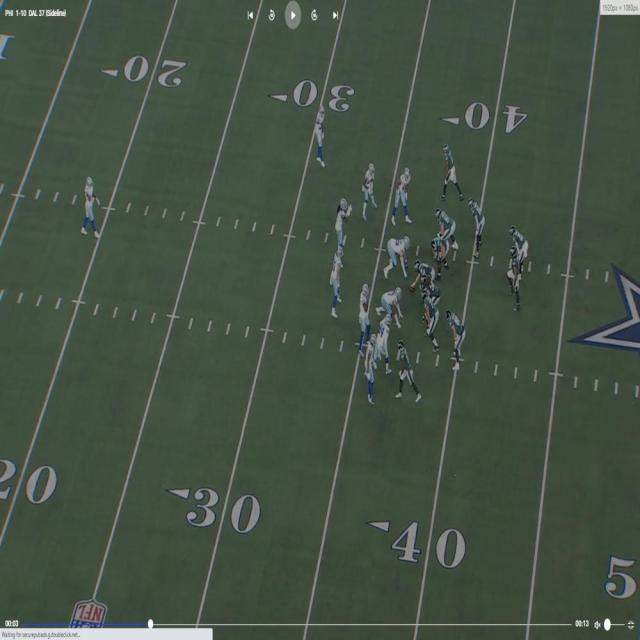center: (408, 258, 431, 296)
db: (364, 335, 377, 406), (83, 178, 96, 239), (315, 107, 329, 162), (365, 160, 379, 213)
lb: (334, 198, 352, 244), (330, 249, 342, 315), (358, 280, 368, 332)
qb: (509, 247, 523, 309)
skill: (467, 199, 484, 255), (445, 144, 462, 196), (448, 308, 461, 365), (508, 220, 524, 257)
